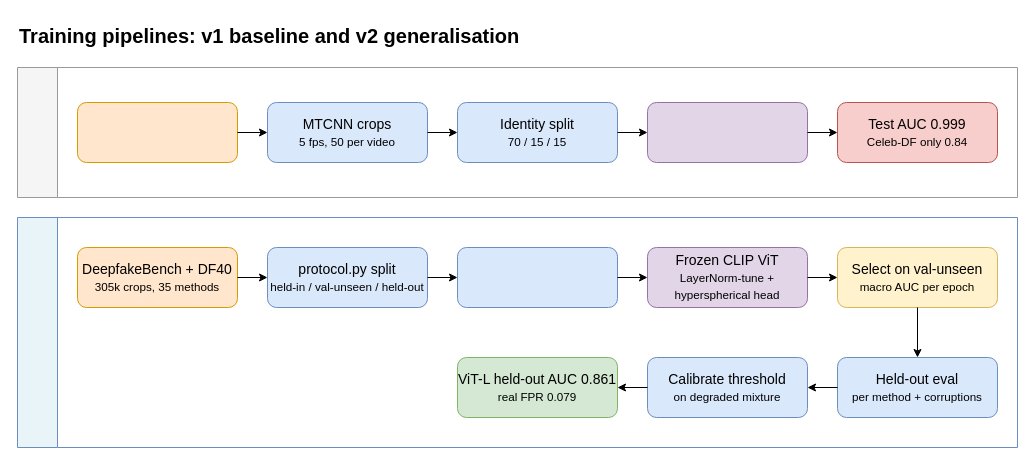
The diagram is 1035 pixels wide and 465 high, and some of its shapes have lost their labels. Each missing label, with the box of its shape:
Degradation aug + SBI JPEG, downscale, self-blends: (456, 246, 618, 308)
FF++ c23 Real + Deepfakes only: (76, 102, 238, 162)
Full fine-tune EfficientNet-B0, Xception: (646, 102, 808, 162)
v1 baseline: (16, 66, 1018, 198)
v2 cross-method: (16, 216, 1018, 448)
